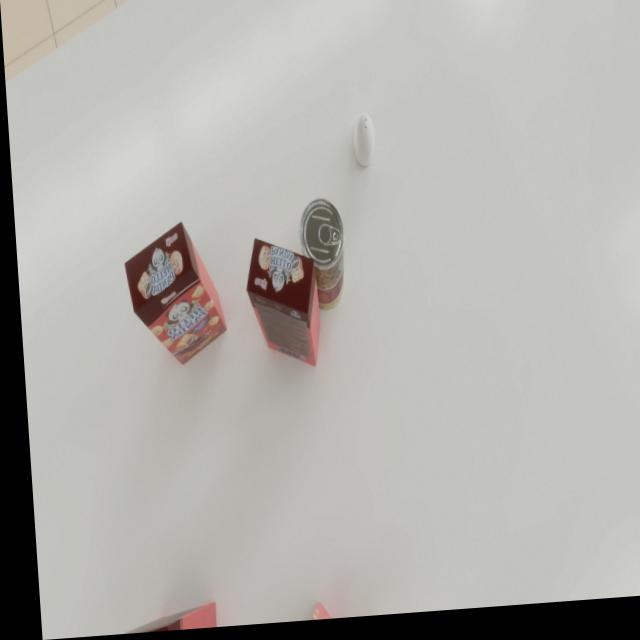HelloPanda: (118, 222, 223, 370), (239, 239, 317, 375)
Potato_sticks: (294, 202, 345, 316)
Salt: (350, 118, 373, 172)
